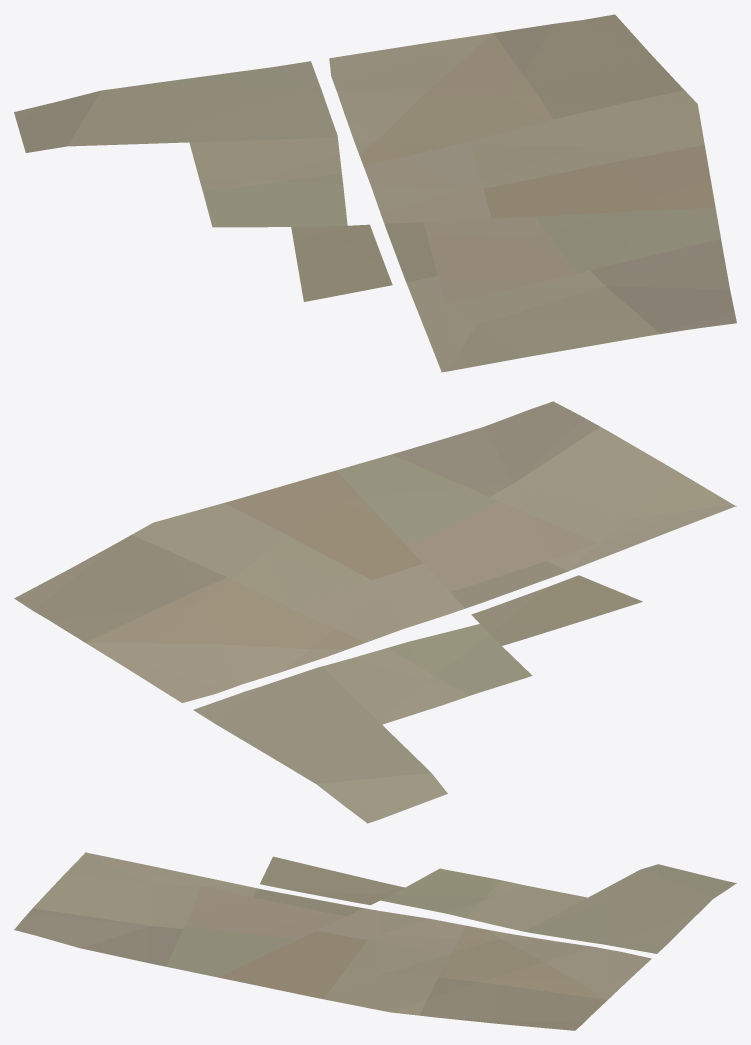
The model's file is farm_7_1_soil.glb.
The picture shows the model from 3 angles, top to bottom: view 1: azimuth 30°, elevation 25°; view 2: azimuth 150°, elevation 25°; view 3: azimuth 270°, elevation 25°; orthographic projection. The views are drawn at different scales.
Parts seen in each view (by area): view 1: geometry_0; view 2: geometry_0; view 3: geometry_0.
Boxes of the visible parts, x1,y1,x2,y2 form: geometry_0: (14, 14, 736, 372); geometry_0: (14, 401, 736, 823); geometry_0: (14, 852, 736, 1030).
Bounding box in the file's own units: 335 × 39.36 × 503.
